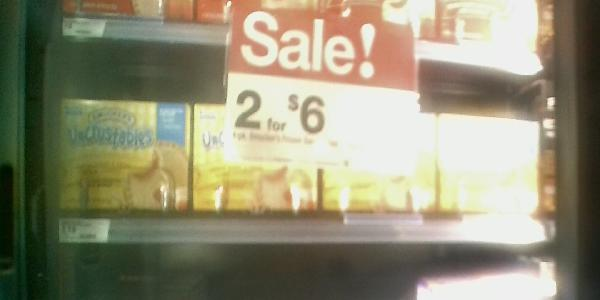icecream: (53, 91, 194, 219), (190, 96, 318, 216), (321, 110, 447, 225), (437, 106, 545, 225)
